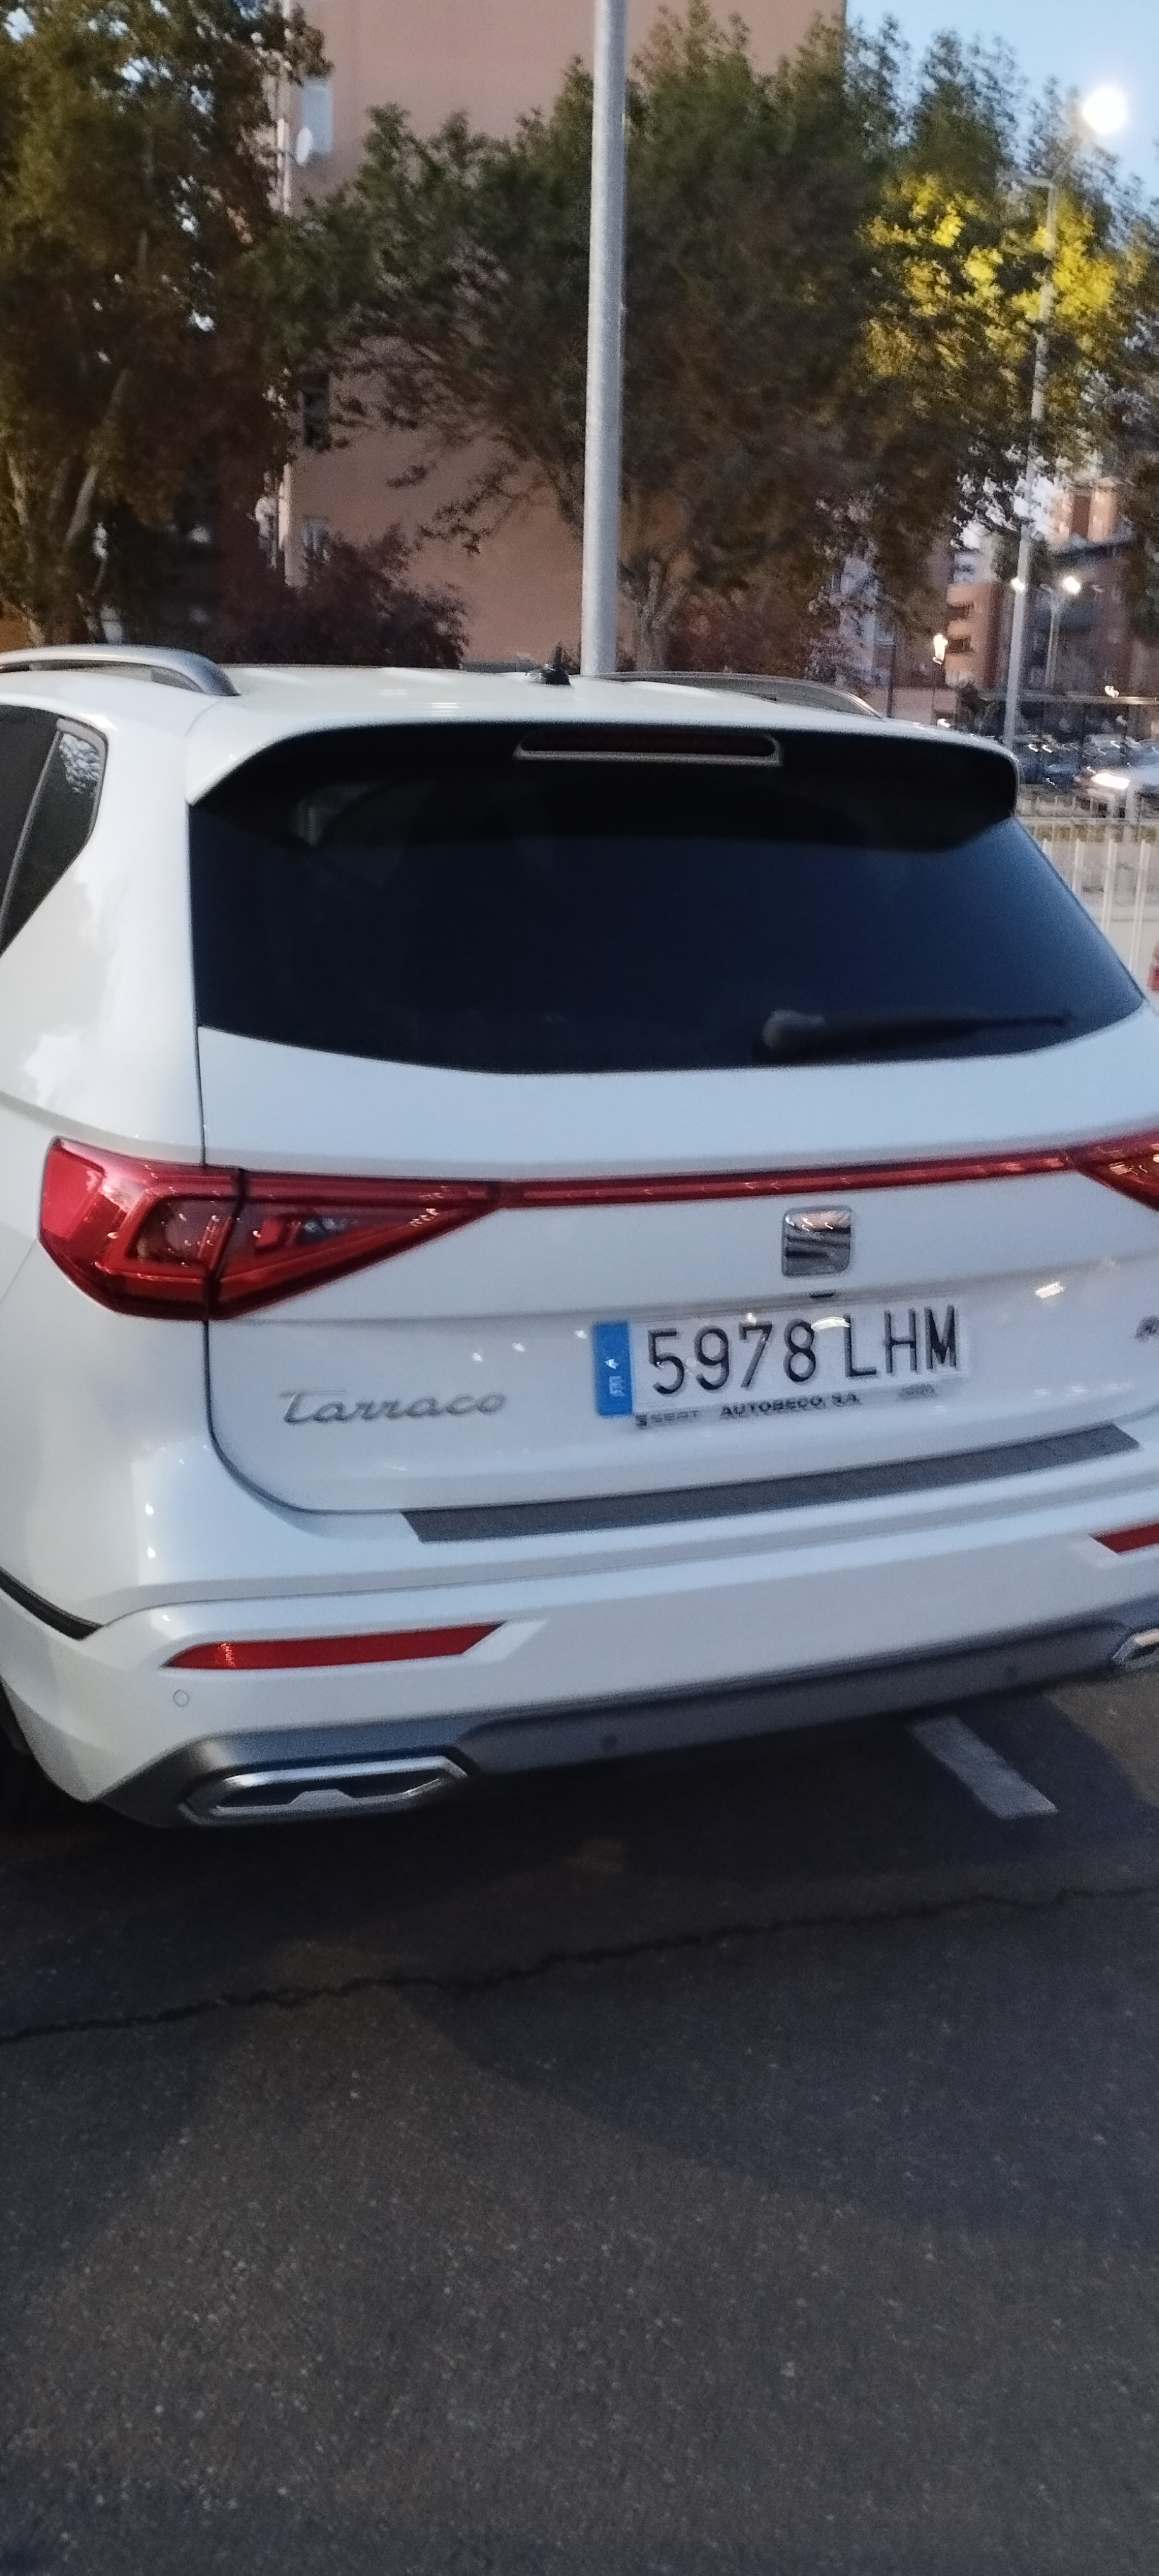Car: (0, 643, 1144, 1803)
Plate: (585, 1325, 964, 1423)
